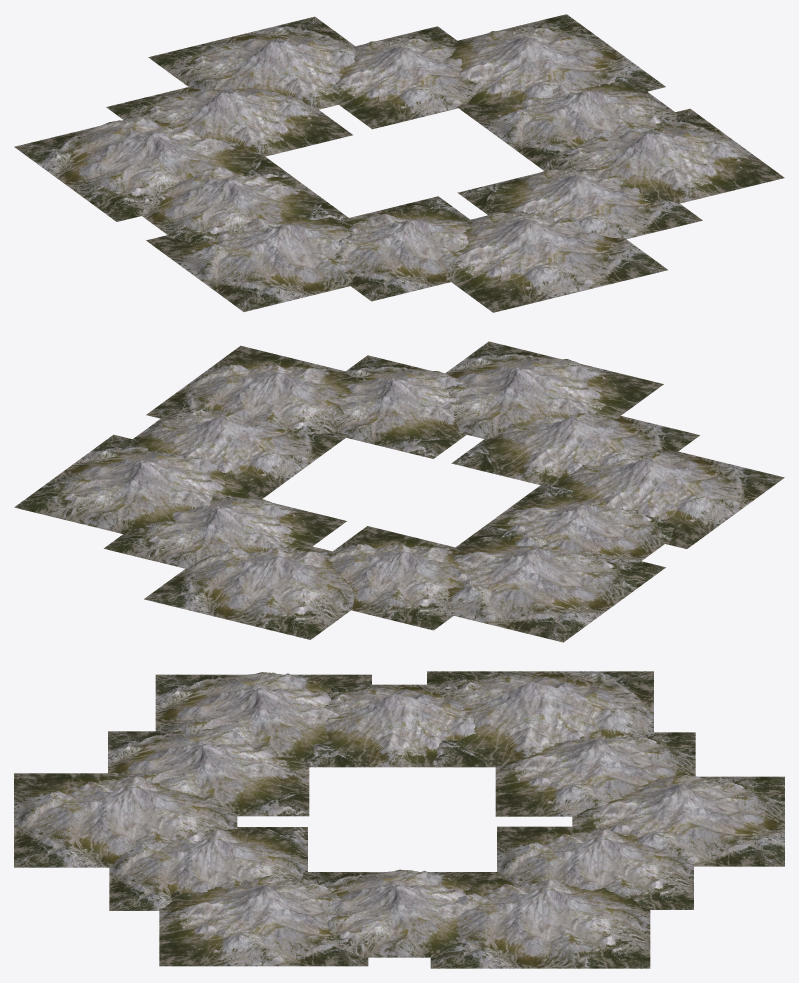
The model's file is lantern_mountains.glb.
3 views of the same model, one above another, from view 1: azimuth 30°, elevation 25°; view 2: azimuth 150°, elevation 25°; view 3: azimuth 270°, elevation 25° (orthographic). The views are drawn at different scales.
Visible parts, largest first — view 1: JianghaiMountainMassif10, JianghaiMountainMassif08, JianghaiMountainMassif09, JianghaiMountainMassif11, JianghaiMountainMassif06, JianghaiMountainMassif07, JianghaiMountainMassif01, JianghaiMountainMassif00, JianghaiMountainMassif04, JianghaiMountainMassif02, JianghaiMountainMassif05, JianghaiMountainMassif03; view 2: JianghaiMountainMassif08, JianghaiMountainMassif07, JianghaiMountainMassif06, JianghaiMountainMassif10, JianghaiMountainMassif09, JianghaiMountainMassif11, JianghaiMountainMassif04, JianghaiMountainMassif00, JianghaiMountainMassif01, JianghaiMountainMassif02, JianghaiMountainMassif05, JianghaiMountainMassif03; view 3: JianghaiMountainMassif08, JianghaiMountainMassif06, JianghaiMountainMassif10, JianghaiMountainMassif11, JianghaiMountainMassif07, JianghaiMountainMassif09, JianghaiMountainMassif04, JianghaiMountainMassif02, JianghaiMountainMassif00, JianghaiMountainMassif01, JianghaiMountainMassif05, JianghaiMountainMassif03.
Boxes of the visible parts, box(x1,y1,x2,y2) form: JianghaiMountainMassif10: box(446, 210, 667, 312); JianghaiMountainMassif08: box(14, 117, 294, 221); JianghaiMountainMassif09: box(146, 204, 356, 311); JianghaiMountainMassif11: box(558, 108, 784, 203); JianghaiMountainMassif06: box(447, 14, 665, 105); JianghaiMountainMassif07: box(148, 16, 356, 109); JianghaiMountainMassif01: box(332, 26, 481, 129); JianghaiMountainMassif00: box(457, 74, 678, 170); JianghaiMountainMassif04: box(335, 196, 473, 301); JianghaiMountainMassif02: box(106, 87, 352, 156); JianghaiMountainMassif05: box(457, 166, 702, 239); JianghaiMountainMassif03: box(139, 154, 350, 243); JianghaiMountainMassif08: box(445, 524, 665, 642); JianghaiMountainMassif07: box(144, 546, 354, 639); JianghaiMountainMassif06: box(14, 434, 247, 533); JianghaiMountainMassif10: box(441, 341, 663, 439); JianghaiMountainMassif09: box(538, 449, 784, 548); JianghaiMountainMassif11: box(146, 345, 365, 434); JianghaiMountainMassif04: box(451, 412, 699, 485); JianghaiMountainMassif00: box(121, 407, 348, 498); JianghaiMountainMassif01: box(104, 494, 346, 569); JianghaiMountainMassif02: box(328, 526, 463, 630); JianghaiMountainMassif05: box(330, 355, 466, 458); JianghaiMountainMassif03: box(455, 483, 675, 563); JianghaiMountainMassif08: box(427, 671, 653, 767); JianghaiMountainMassif06: box(430, 879, 650, 968); JianghaiMountainMassif10: box(14, 773, 237, 867); JianghaiMountainMassif11: box(159, 876, 368, 966); JianghaiMountainMassif07: box(572, 774, 784, 866); JianghaiMountainMassif09: box(155, 672, 371, 762); JianghaiMountainMassif04: box(108, 728, 309, 816); JianghaiMountainMassif02: box(495, 730, 695, 816); JianghaiMountainMassif00: box(302, 869, 501, 957); JianghaiMountainMassif01: box(497, 826, 693, 909); JianghaiMountainMassif05: box(109, 827, 307, 910); JianghaiMountainMassif03: box(304, 684, 499, 767).
Bounding box in the file's own units: 1981 × 114 × 2175.
Materials: 1 (1 with a texture image).
